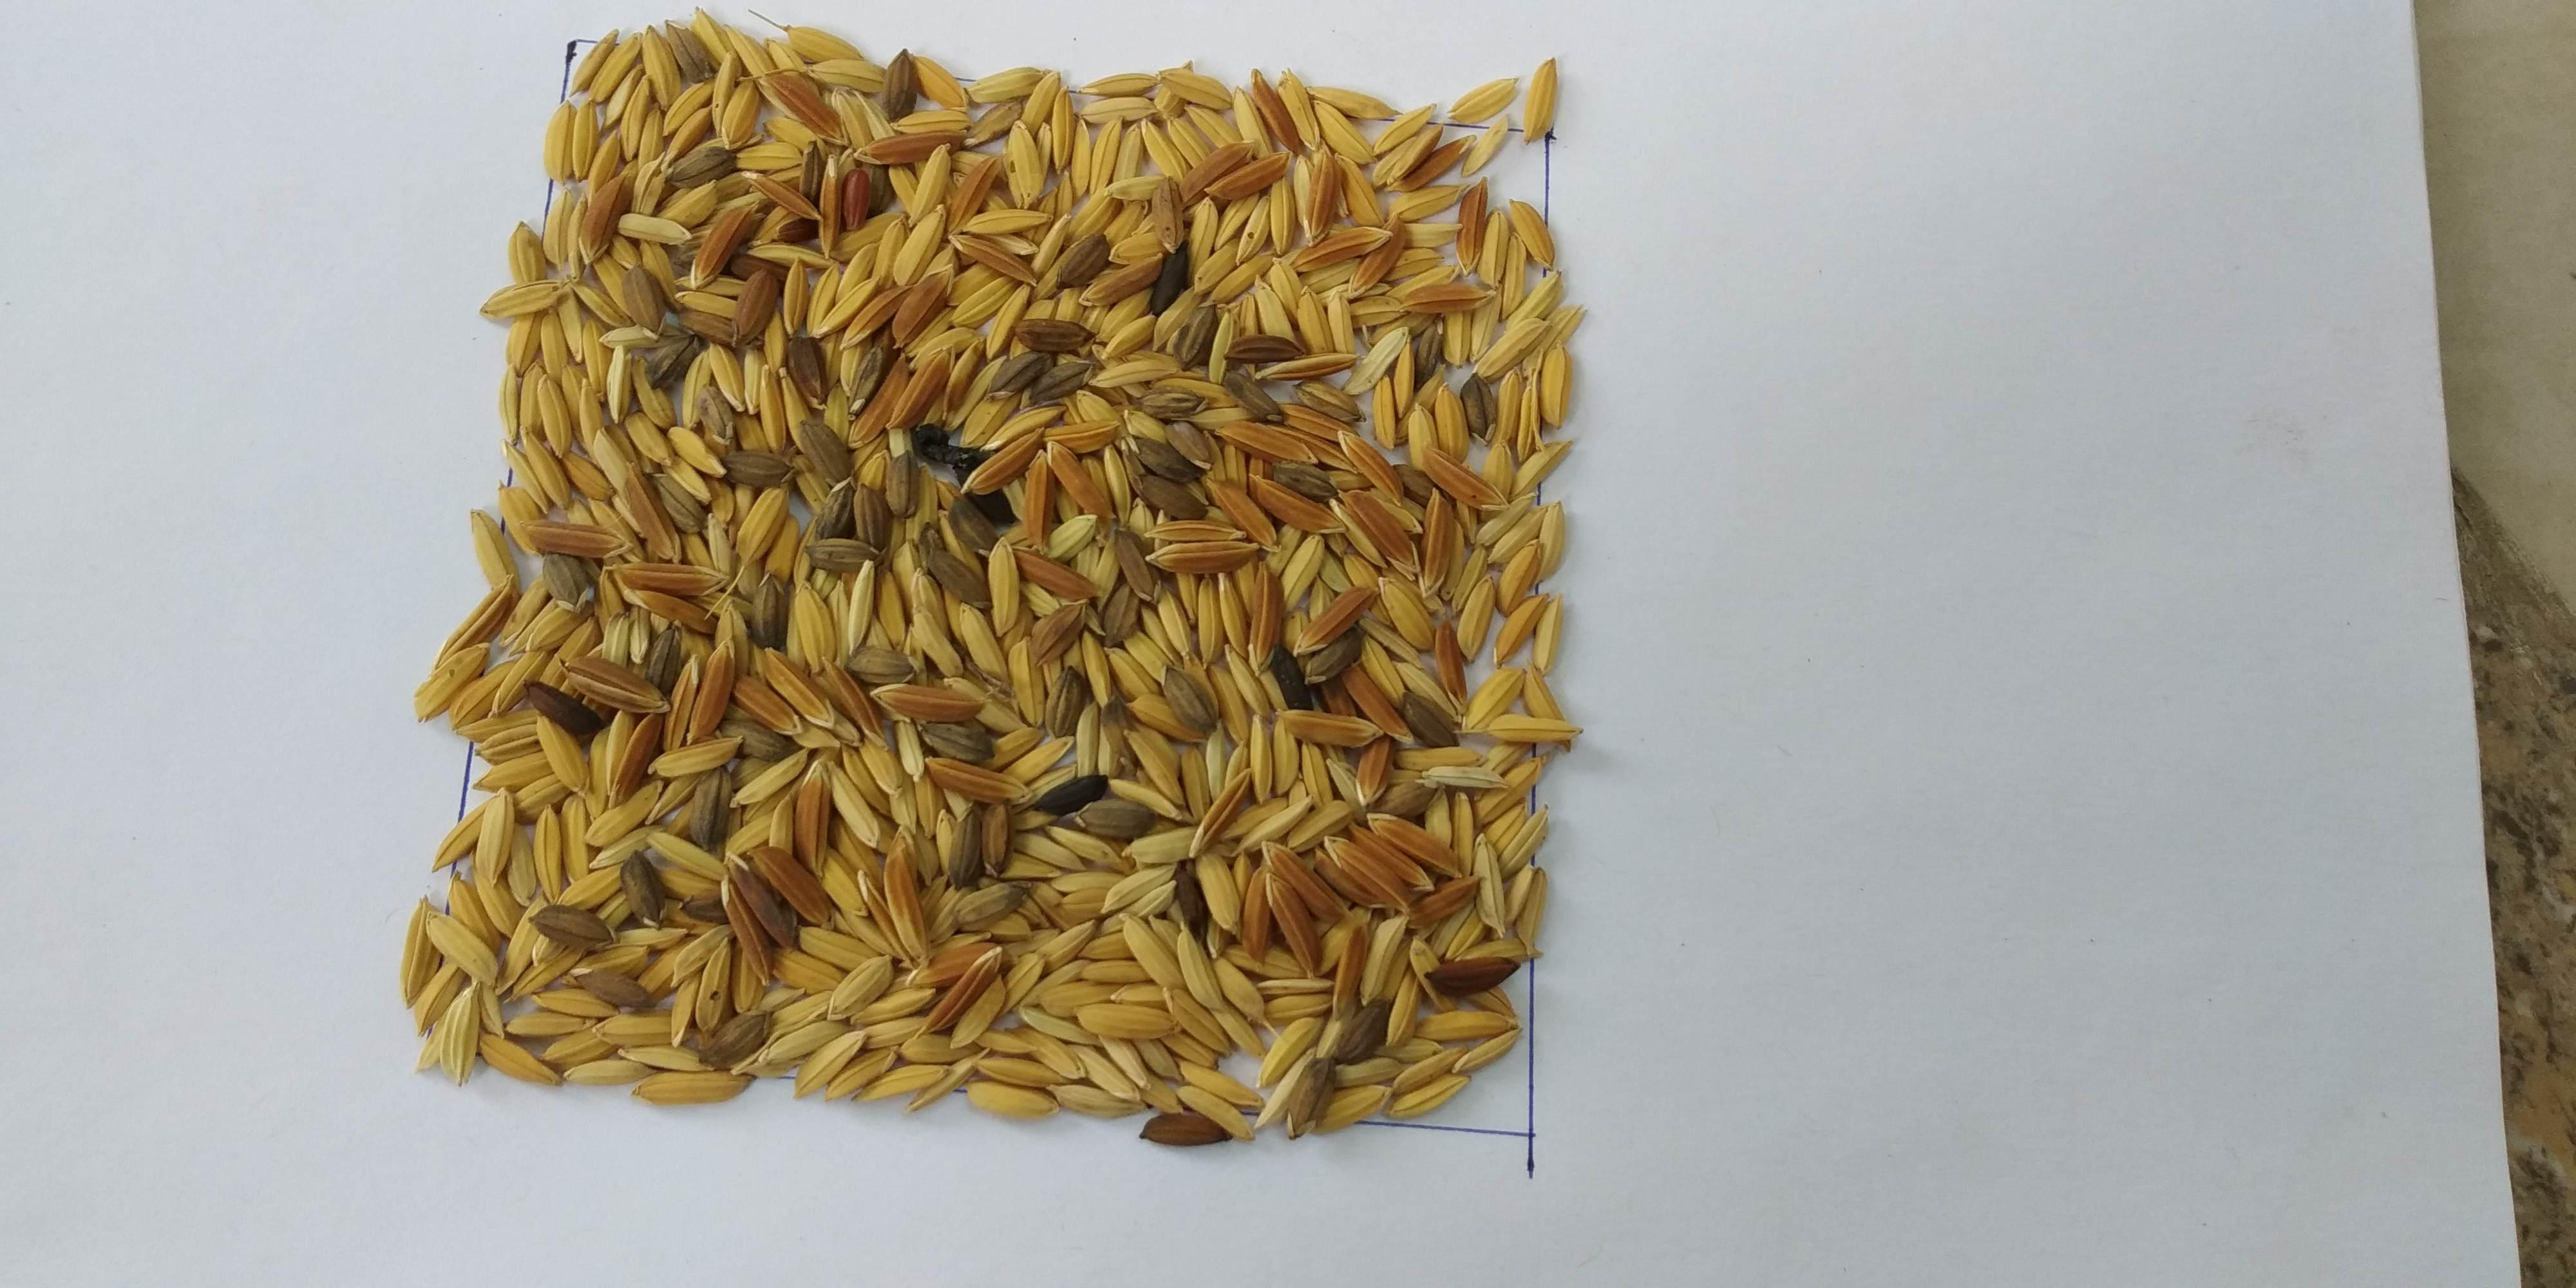impure: (572, 131, 1480, 1068)
